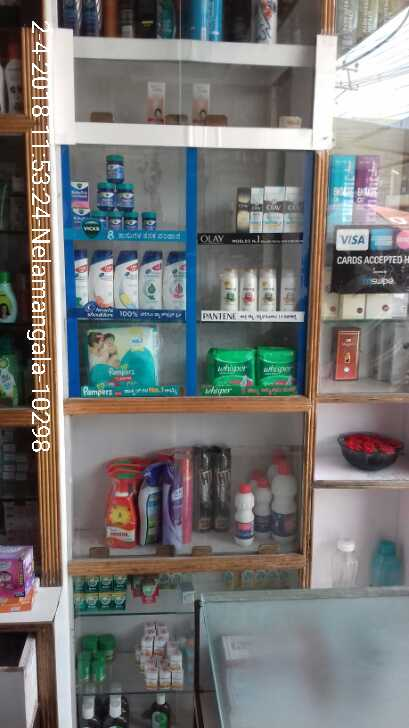vicks: (92, 154, 156, 228), (70, 181, 91, 227)
